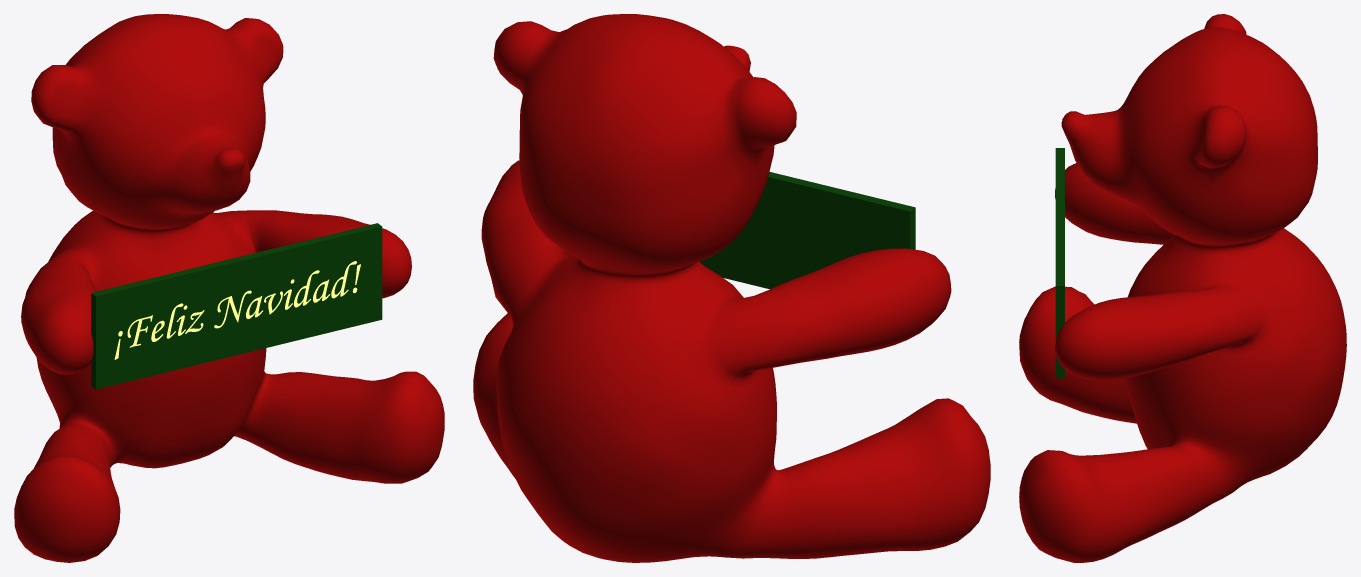
Rendered from oso_FelizNavidad_01.glb.
3 views of the same model, side by side, from view 1: azimuth 30°, elevation 25°; view 2: azimuth 150°, elevation 25°; view 3: azimuth 270°, elevation 25° (orthographic). The views are drawn at different scales.
Parts seen in each view (by area): view 1: Oso_Feliz_Navidad:Group42068, pCube1, typeMesh1; view 2: Oso_Feliz_Navidad:Group42068, pCube1; view 3: Oso_Feliz_Navidad:Group42068, pCube1.
Part boxes in pixels (bbox=[...]): Oso_Feliz_Navidad:Group42068: bbox=[14, 14, 444, 562]; pCube1: bbox=[91, 223, 382, 389]; typeMesh1: bbox=[114, 261, 360, 359]; Oso_Feliz_Navidad:Group42068: bbox=[473, 14, 990, 562]; pCube1: bbox=[699, 172, 915, 289]; Oso_Feliz_Navidad:Group42068: bbox=[1019, 14, 1346, 562]; pCube1: bbox=[1055, 148, 1064, 378].
Size of the model in its own units: 1.34 by 1.36 by 0.9205.
